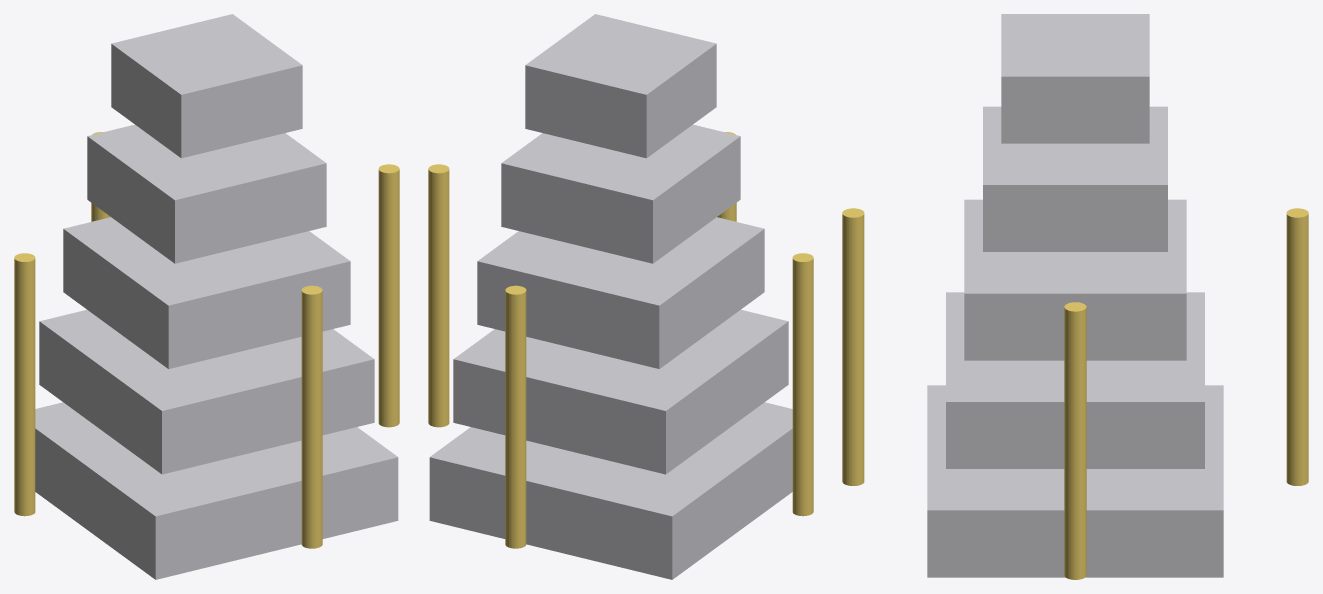
The model's file is research_paper_writing.glb.
3 renders of one model, left to right at view 1: azimuth 30°, elevation 25°; view 2: azimuth 150°, elevation 25°; view 3: azimuth 270°, elevation 25°, orthographic. The views are drawn at different scales.
Visible parts, largest first — view 1: layer_0, layer_1, layer_2, layer_3, layer_4, accent_3, accent_0, accent_2; view 2: layer_0, layer_1, layer_2, layer_3, layer_4, accent_1, accent_0, accent_2; view 3: layer_0, layer_1, layer_2, layer_3, layer_4, accent_0, accent_1, accent_3.
Part boxes in pixels (x1,y1,x2,y2): layer_0: [35, 402, 398, 579]; layer_1: [39, 310, 374, 474]; layer_2: [63, 217, 350, 368]; layer_3: [87, 124, 326, 263]; layer_4: [111, 14, 302, 158]; accent_3: [301, 285, 322, 548]; accent_0: [378, 164, 399, 427]; accent_2: [14, 253, 35, 516]; layer_0: [429, 402, 792, 579]; layer_1: [453, 310, 788, 474]; layer_2: [477, 217, 764, 368]; layer_3: [501, 124, 740, 263]; layer_4: [525, 14, 716, 158]; accent_1: [505, 285, 526, 548]; accent_0: [428, 164, 449, 427]; accent_2: [792, 253, 813, 516]; layer_0: [927, 385, 1223, 577]; layer_1: [946, 292, 1204, 468]; layer_2: [964, 199, 1186, 360]; layer_3: [983, 106, 1167, 251]; layer_4: [1001, 14, 1149, 143]; accent_0: [1064, 302, 1086, 579]; accent_1: [1286, 208, 1308, 485]; accent_3: [842, 208, 864, 485].
Bounding box in the file's own units: 0.126 × 0.14 × 0.126.
